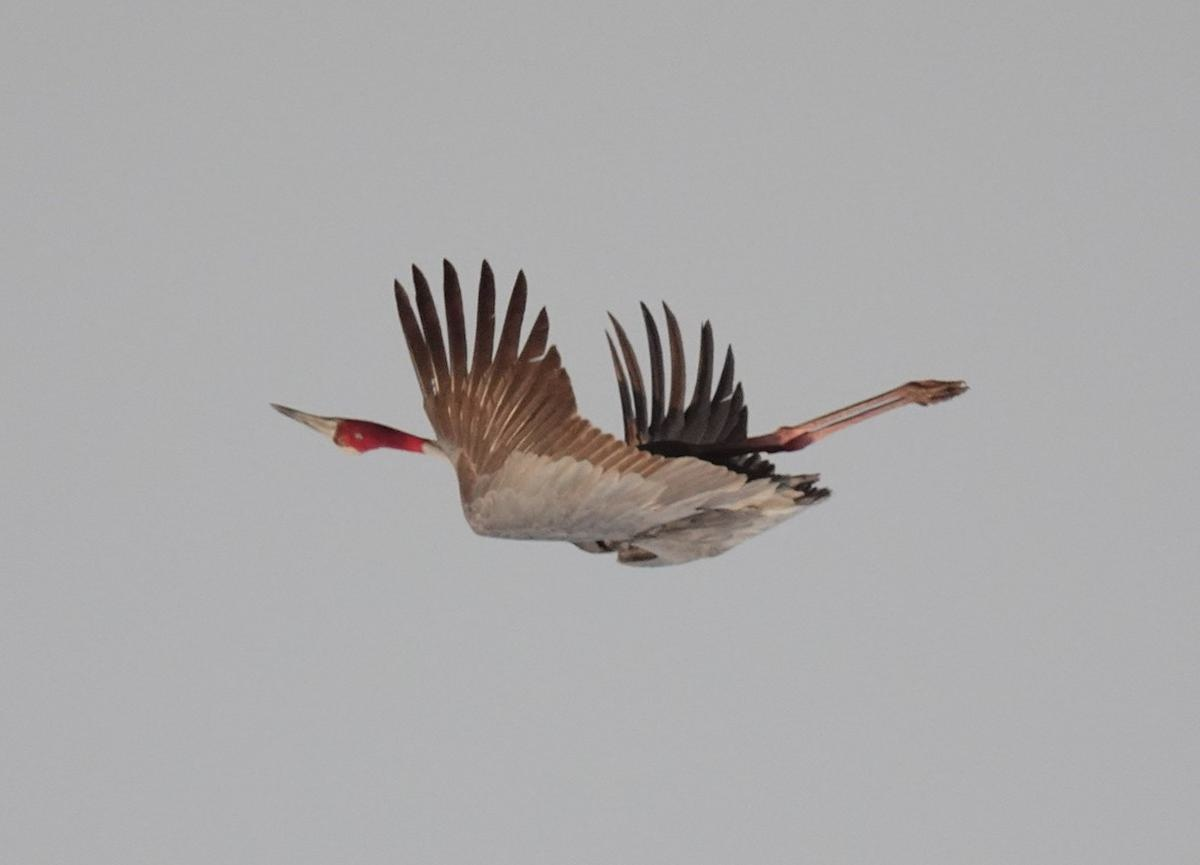crane: (263, 218, 990, 584)
